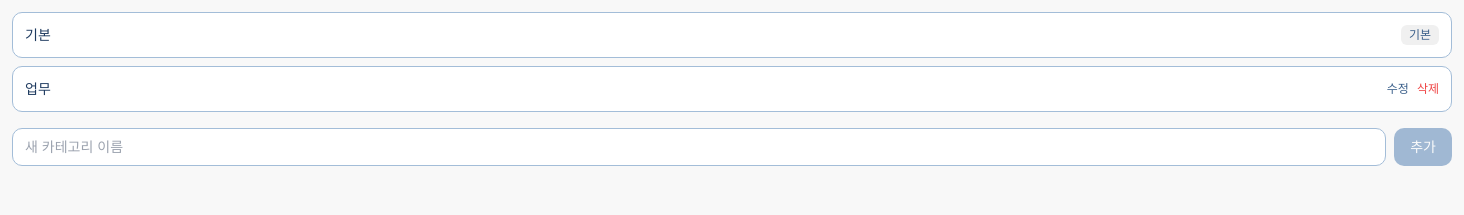
CategoryList › 카테고리 삭제 › 기본 카테고리 삭제 시 422 에러 메시지를 표시한다
Click the button "삭제": click(1428, 89) [1417,81,1439,97]
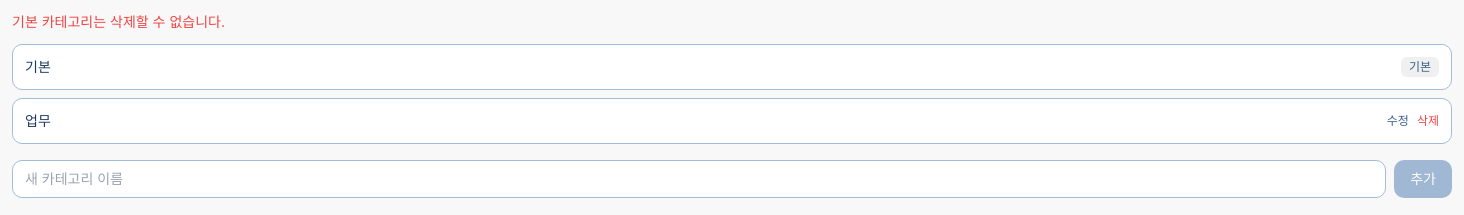
Expected: the message reads "기본 카테고리는 삭제할 수 없습니다.", [12,13,225,30]
